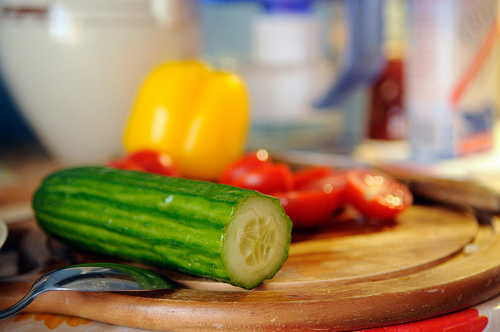cucumber: (30, 164, 293, 290)
